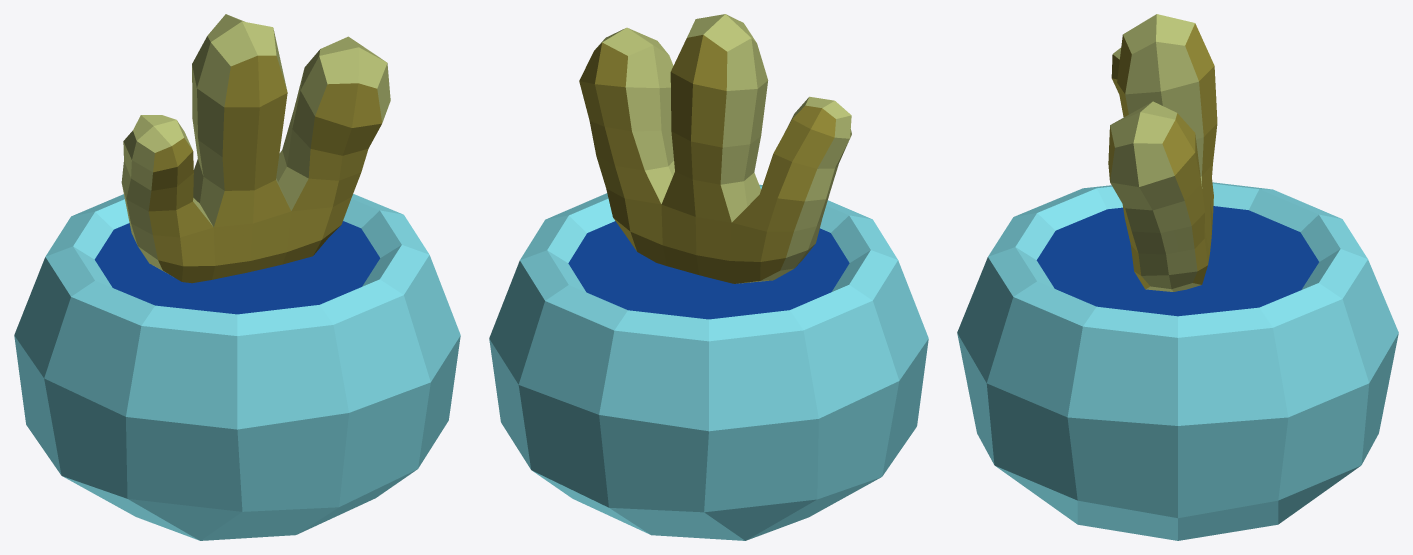
The model's file is Coral_010.glb.
The picture shows the model from 3 angles, left to right: view 1: azimuth 30°, elevation 25°; view 2: azimuth 150°, elevation 25°; view 3: azimuth 270°, elevation 25°; orthographic projection.
Visible parts, largest first — view 1: Coral_010; view 2: Coral_010; view 3: Coral_010.
Part boxes in pixels (<box>): Coral_010: <box>14,14,460,540</box>; Coral_010: <box>489,14,928,540</box>; Coral_010: <box>957,14,1398,540</box>.
Size of the model in its own units: 0.3306 by 0.4065 by 0.3306.
1 material, 1 textured.
